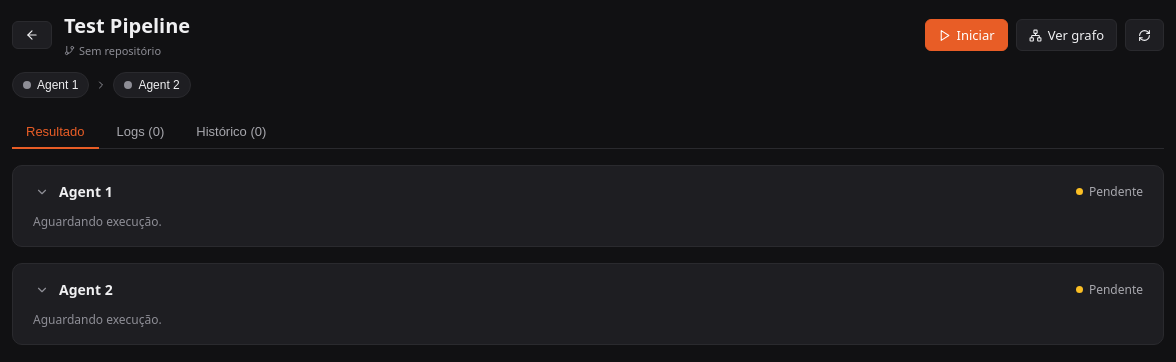
Scenario: PipelineMonitor › shows empty history message when no runs
Check: the heading "Test Pipeline" is shown, box 64,12 -> 190,39
Click the tab "Histórico (0)". click: (231, 132)
box: 182,116 -> 280,149
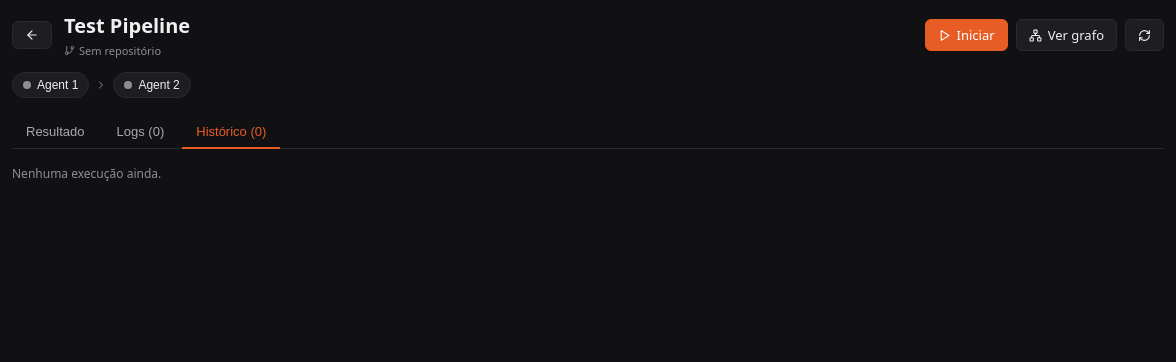
Check: the text "Nenhuma execução ainda." is shown, box 12,165 -> 161,182
